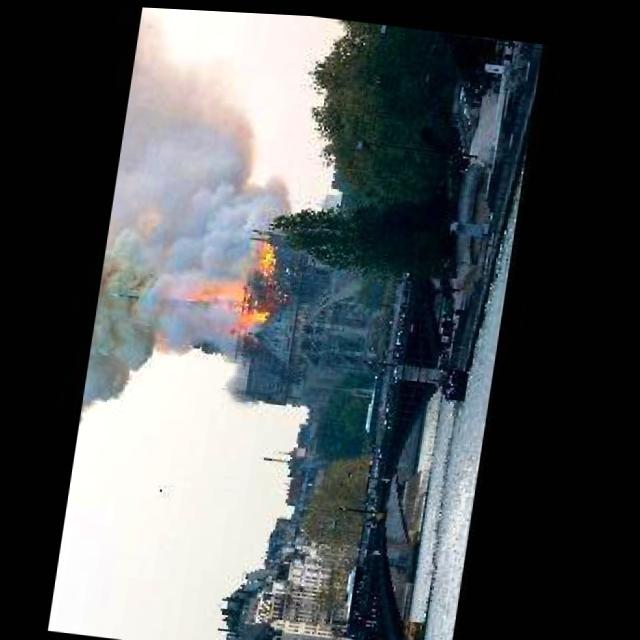helmet: (174, 218, 292, 344)
no_helmet: (85, 51, 306, 428)
